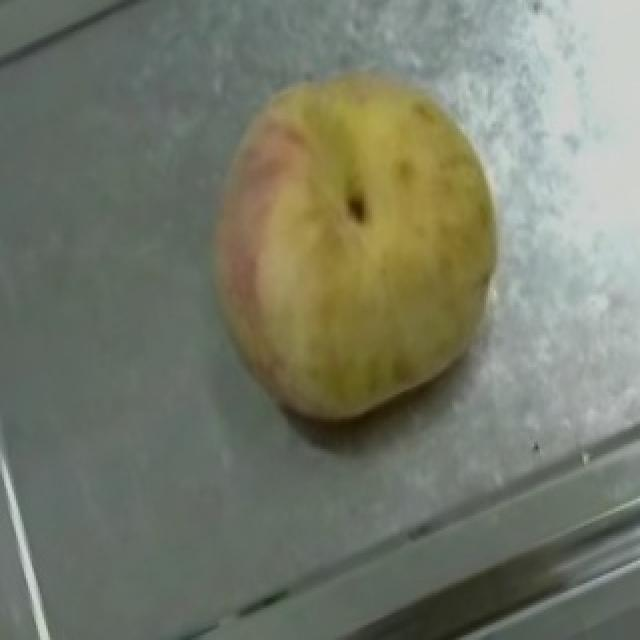Fruit: (166, 34, 500, 380)
